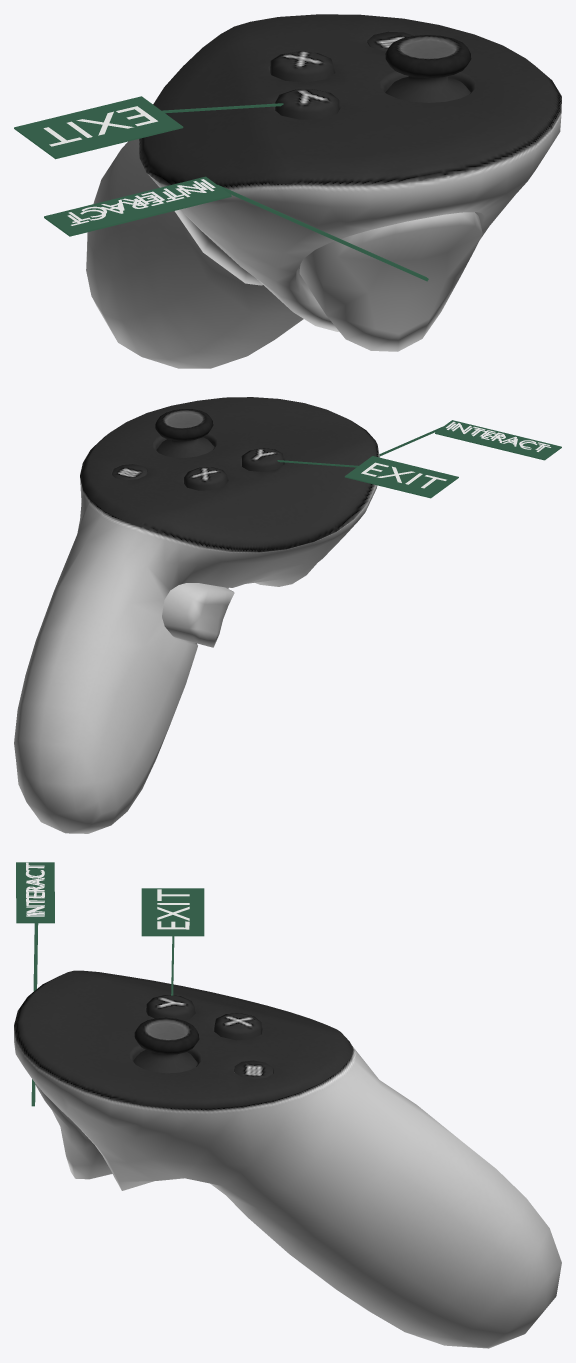
The model's file is leftHand.glb.
3 views of the same model, one above another, from view 1: azimuth 30°, elevation 25°; view 2: azimuth 150°, elevation 25°; view 3: azimuth 270°, elevation 25° (orthographic). The views are drawn at different scales.
Parts seen in each view (by area): view 1: controller_L_low, Cube, Text.001, Text; view 2: controller_L_low, Cube; view 3: controller_L_low, Cube.
Boxes of the visible parts, left/top/right/bottom form: controller_L_low: left=14, top=14, right=561, bottom=368; Cube: left=44, top=176, right=428, bottom=281; Text.001: left=68, top=179, right=215, bottom=222; Text: left=67, top=182, right=214, bottom=225; controller_L_low: left=14, top=397, right=458, bottom=833; Cube: left=379, top=420, right=561, bottom=460; controller_L_low: left=14, top=888, right=561, bottom=1348; Cube: left=16, top=862, right=54, bottom=1106.
Bounding box in the file's own units: 0.1122 × 0.0834 × 0.1235.
7 materials, 1 textured.
